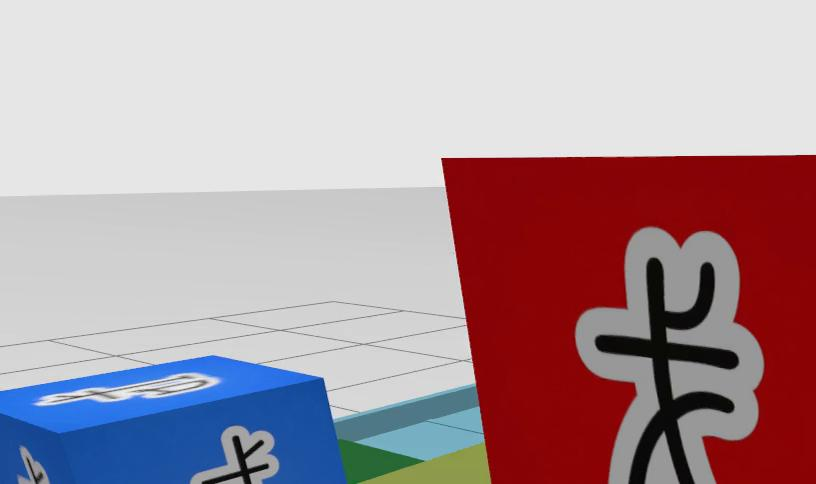KFS_FAKE: (439, 156, 816, 484), (576, 228, 763, 484)
KFS_REAL: (1, 353, 349, 484), (36, 373, 220, 406), (191, 426, 278, 484), (17, 447, 51, 484)
